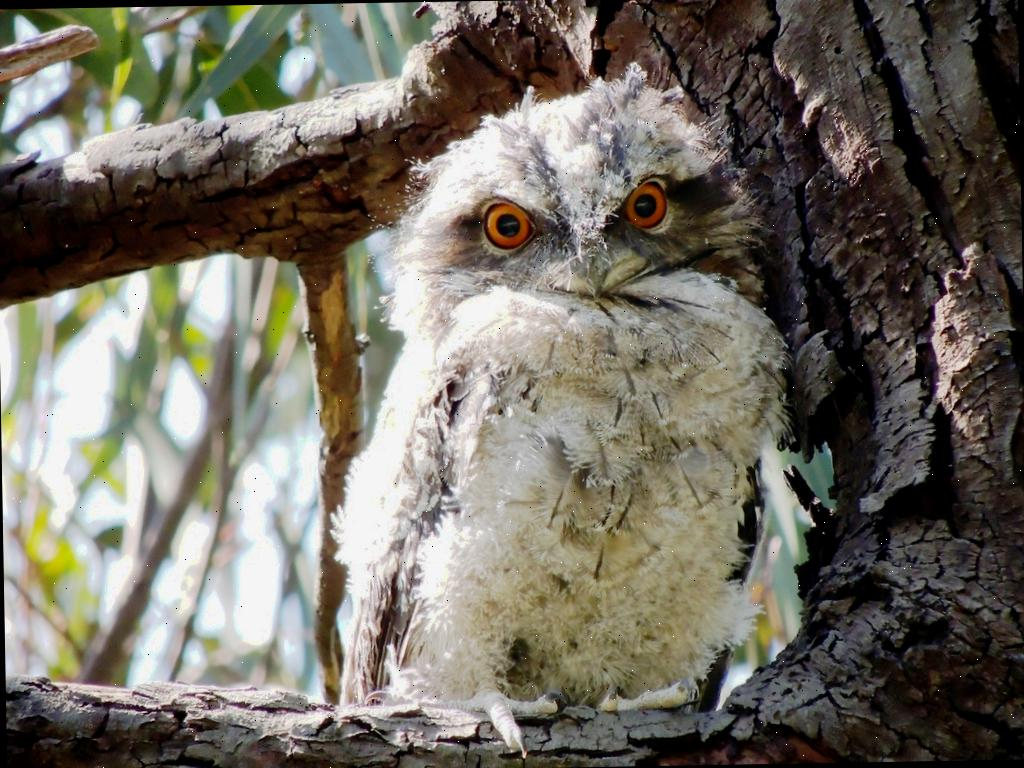Owl: (318, 61, 804, 758)
